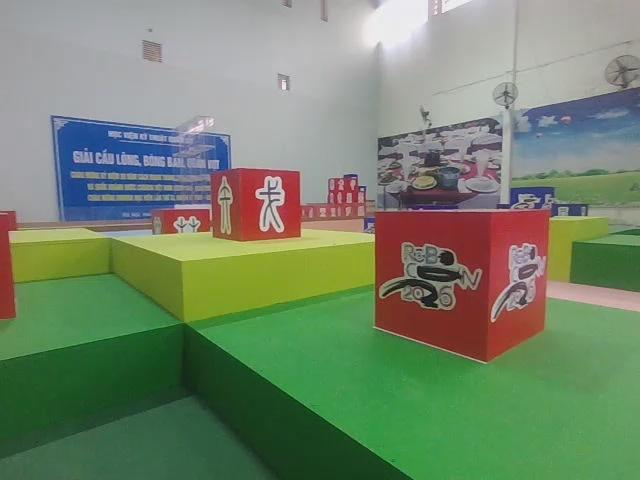R1: (372, 204, 553, 365)
R2 Fake: (208, 165, 304, 244)
